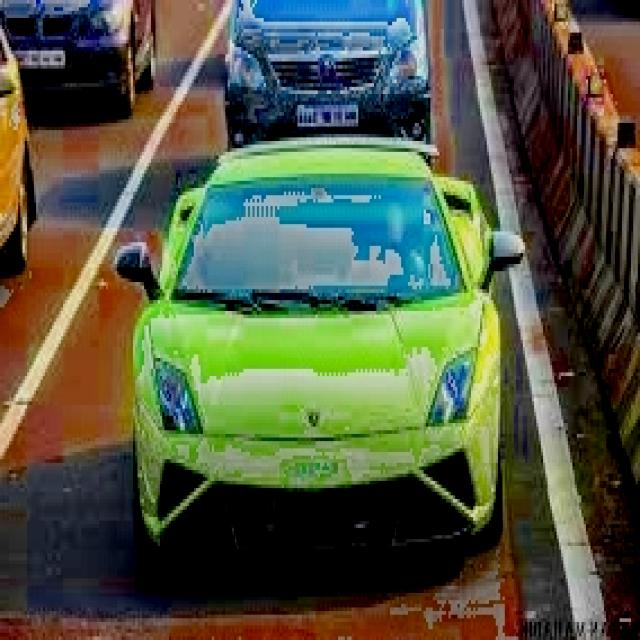green: (137, 128, 498, 580)
